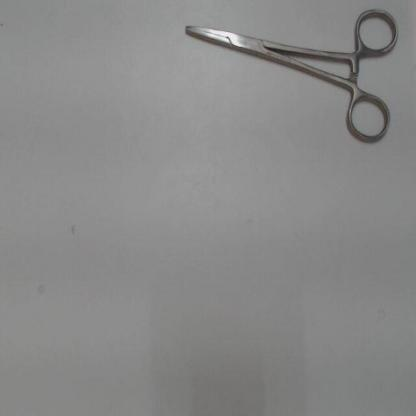Mayo Needle Holder: (170, 2, 402, 152)
